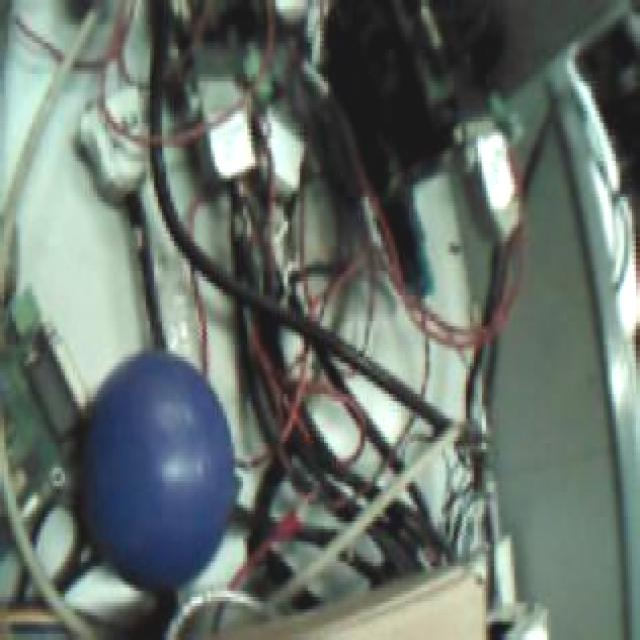BallPurple: (76, 348, 234, 592)
